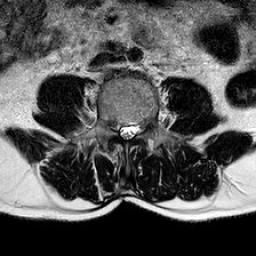CCS_severe_stenosis: (124, 114, 131, 147)
LFS_normal: (139, 108, 147, 137)
LLS_normal: (131, 114, 139, 141)
RFS_normal: (108, 110, 116, 136)
RLS_normal: (116, 114, 124, 141)
